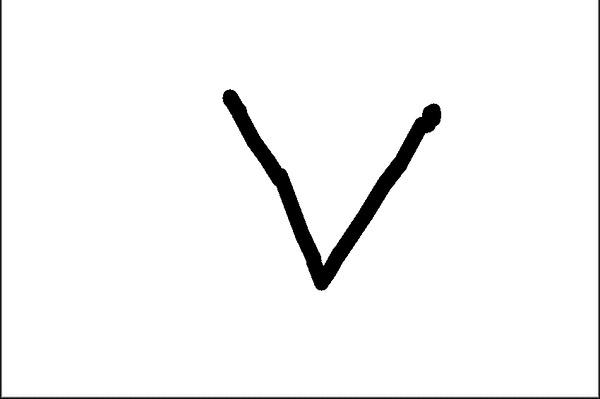V: (210, 82, 452, 297)
